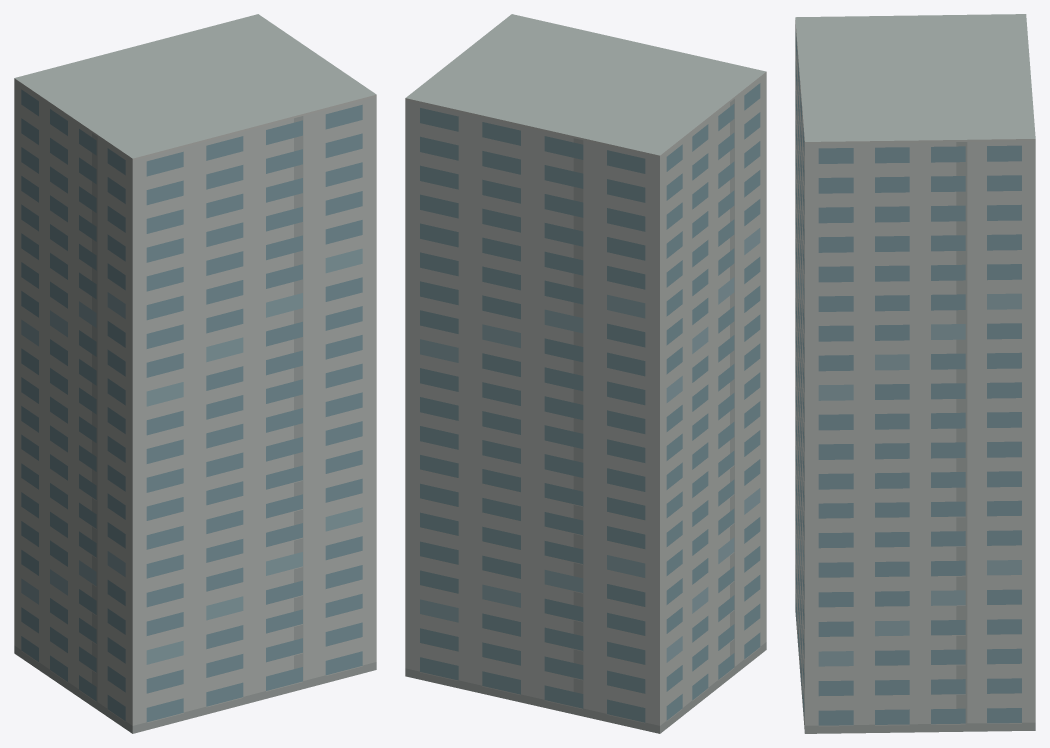
File: residential-71618020-fb49-4e22-aaf4-2cdb1c4552bf.glb
3 renders of one model, left to right at view 1: azimuth 30°, elevation 25°; view 2: azimuth 150°, elevation 25°; view 3: azimuth 270°, elevation 25°, orthographic. The views are drawn at different scales.
Visible parts, largest first — view 1: residential-71618020-fb49-4e22-aaf4-2cdb1c4552bf.tmp; view 2: residential-71618020-fb49-4e22-aaf4-2cdb1c4552bf.tmp; view 3: residential-71618020-fb49-4e22-aaf4-2cdb1c4552bf.tmp.
Boxes of the visible parts, <box> form: residential-71618020-fb49-4e22-aaf4-2cdb1c4552bf.tmp: <box>14,14,376,733</box>; residential-71618020-fb49-4e22-aaf4-2cdb1c4552bf.tmp: <box>405,14,766,733</box>; residential-71618020-fb49-4e22-aaf4-2cdb1c4552bf.tmp: <box>795,14,1035,733</box>.
Size of the model in its own units: 32.95 by 71 by 26.15.
